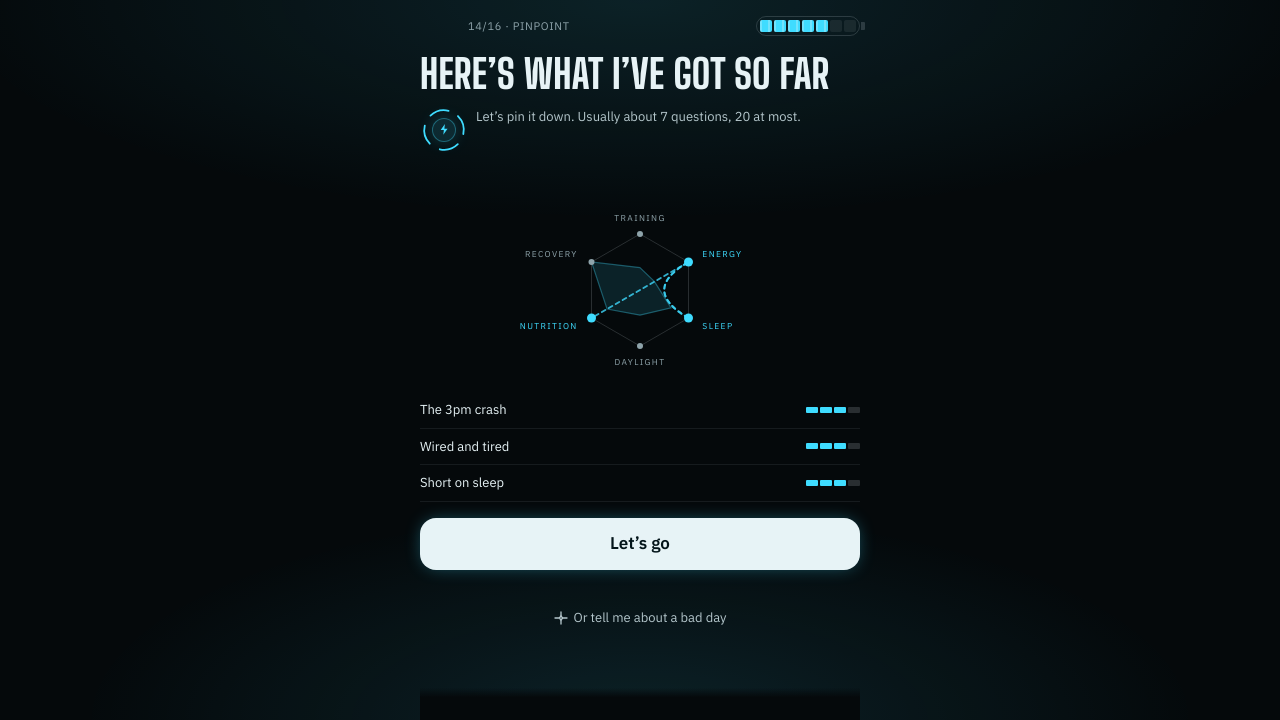
Test: the AI (phase 5) › reads a bad day into answers, and says how many it filled
The image size is (1280, 720).
Click the button "Or tell me about a bad day".
click(640, 618)  # box [541,594,738,642]
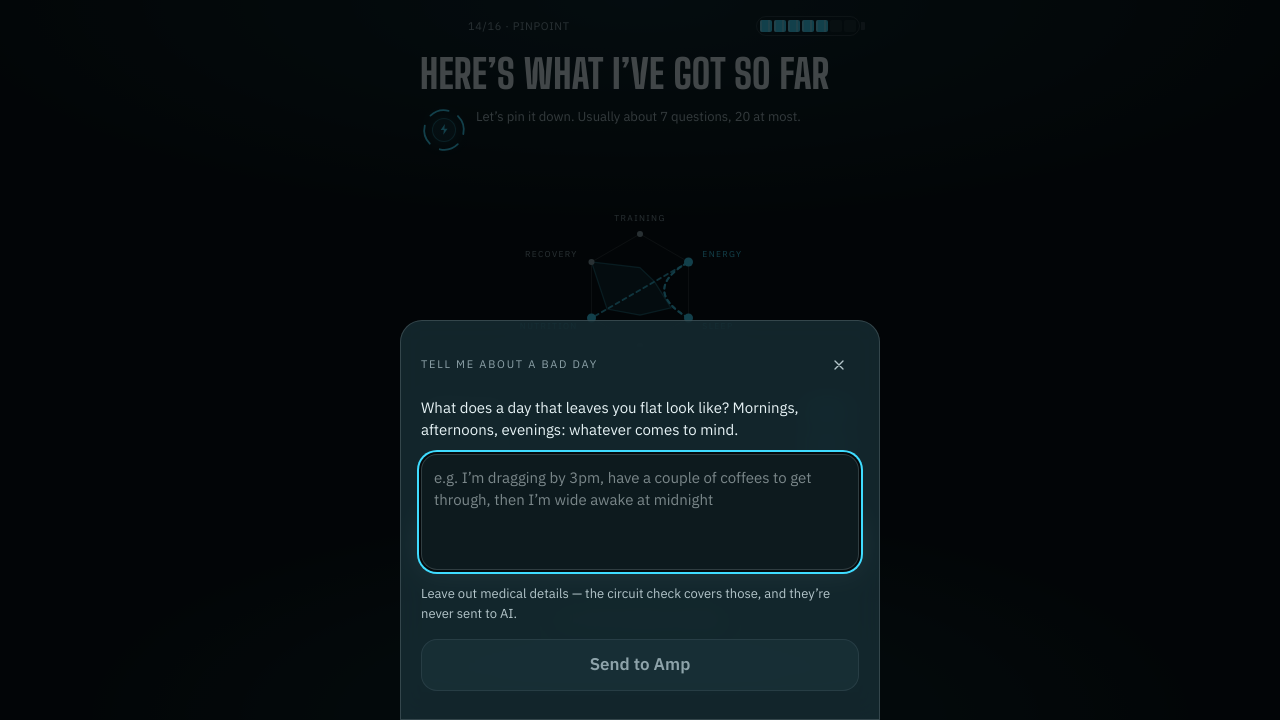
Replace the text in the text box with "dragging by 3pm, then awake at midnight" at (640, 512), box [421,454,859,570]
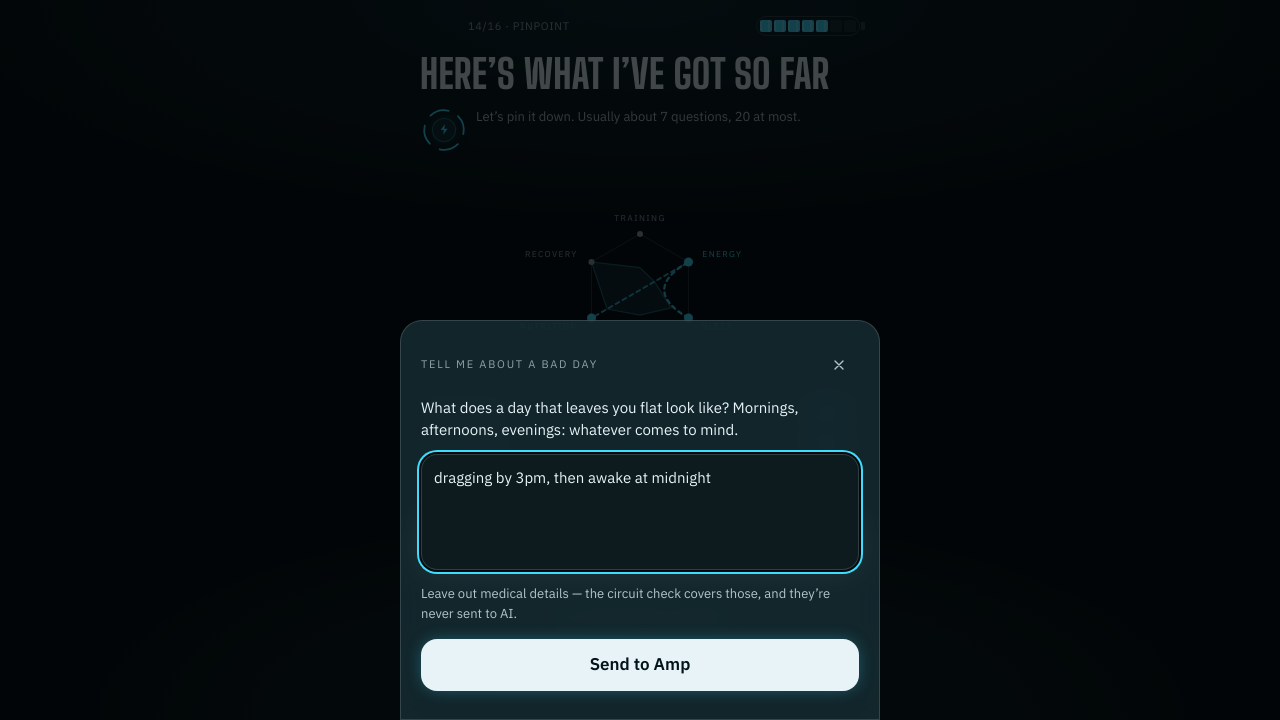
Click the button "Send to Amp".
click(640, 665)  # box [421,639,859,691]
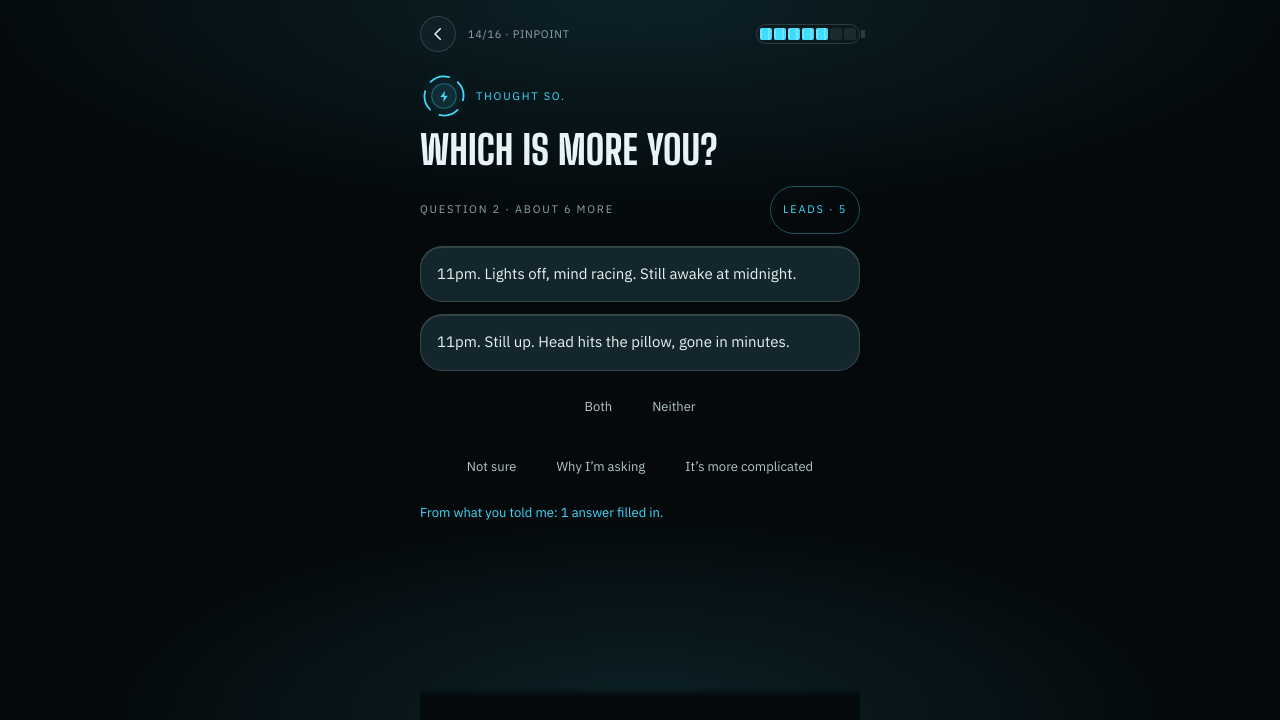
Check: the button "tell me about a bad day" is gone
Check: the text "From what you told me: 1 answer filled in." is shown, box [420,504,663,521]
